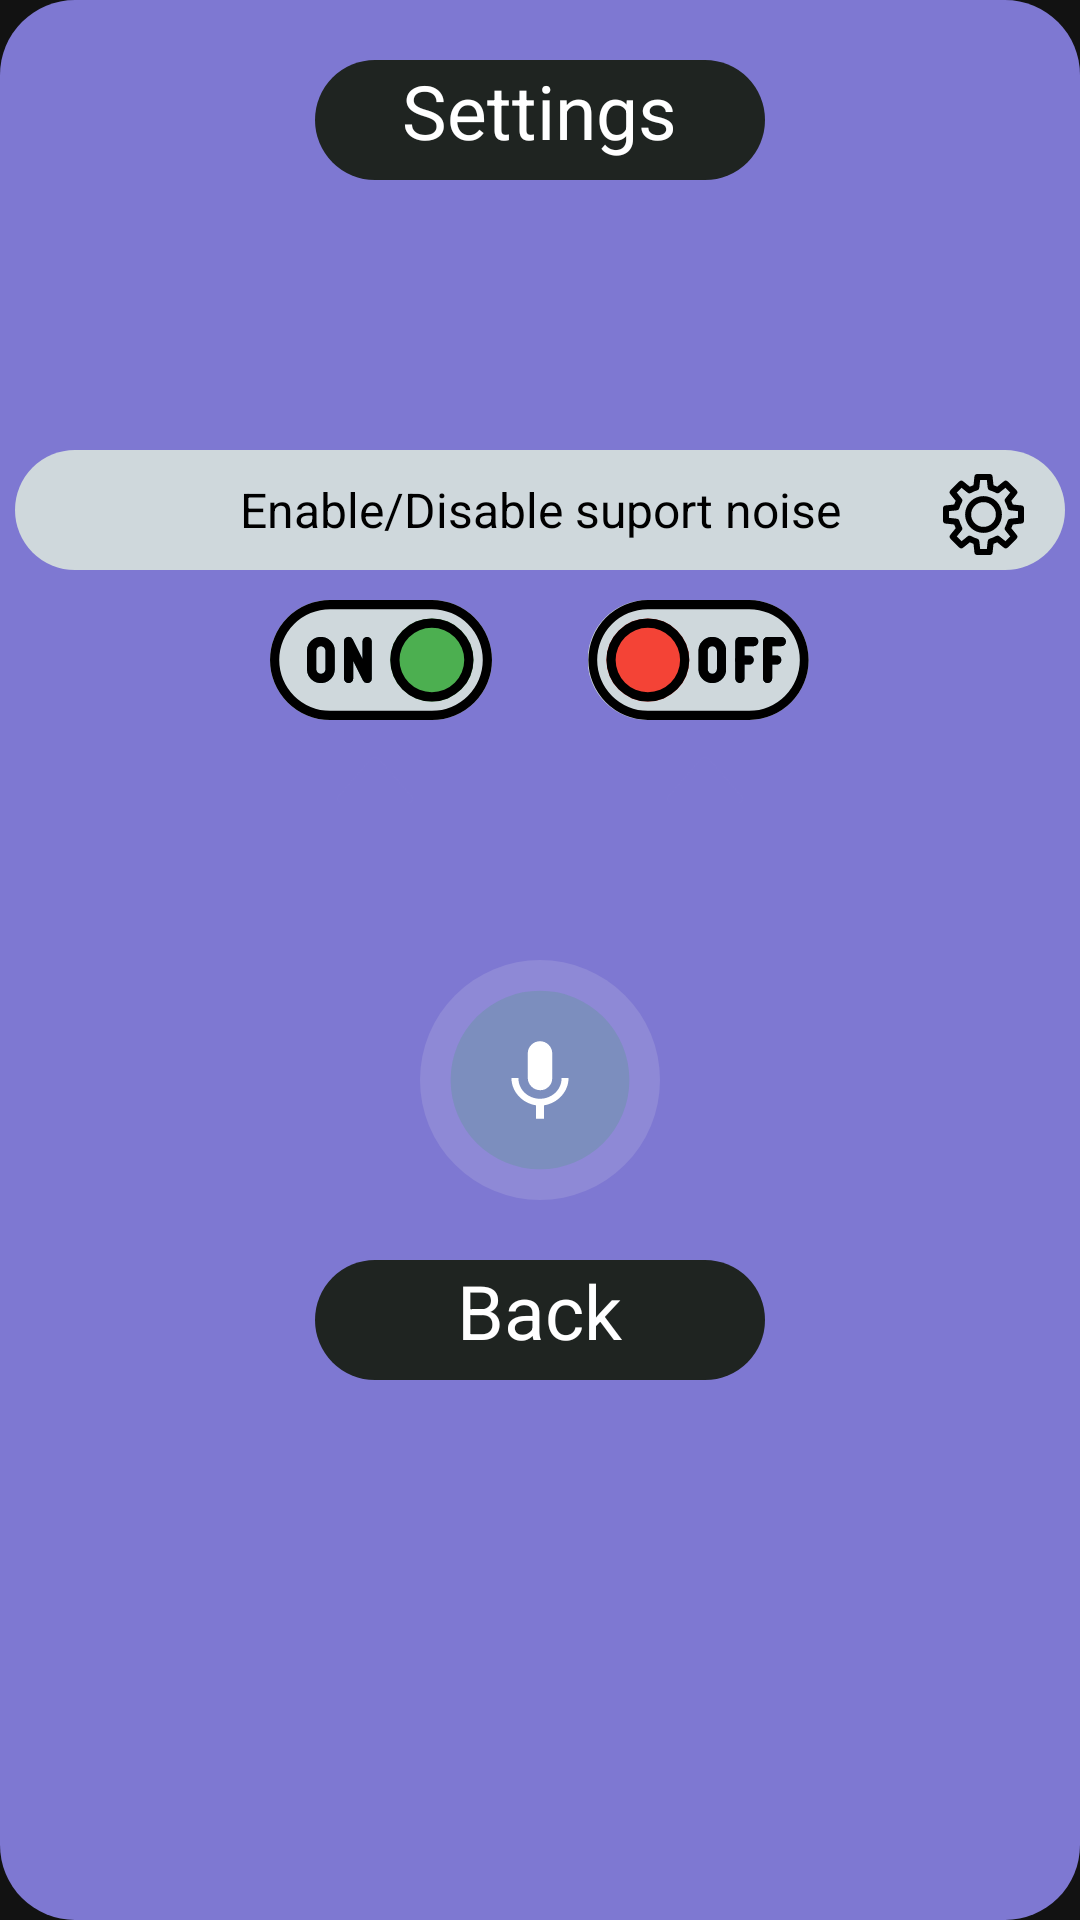

Named icons in this screenshot (1080×1920) and their bounding boxes, (x1, y1, x2, y2):
micro: (420, 960, 660, 1200)
setting: (943, 474, 1024, 555)
